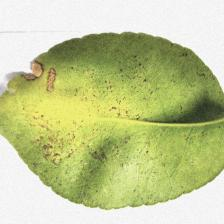canker: (9, 48, 130, 175)
